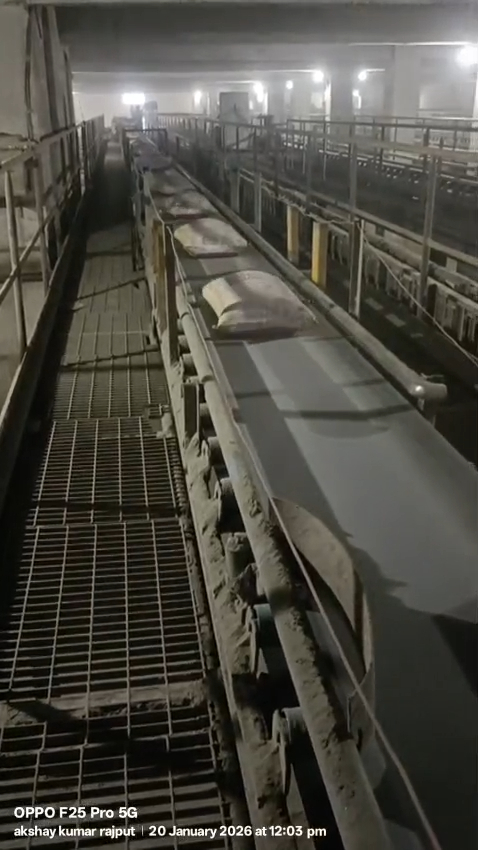Bag: (202, 266, 322, 334), (177, 209, 253, 259)
